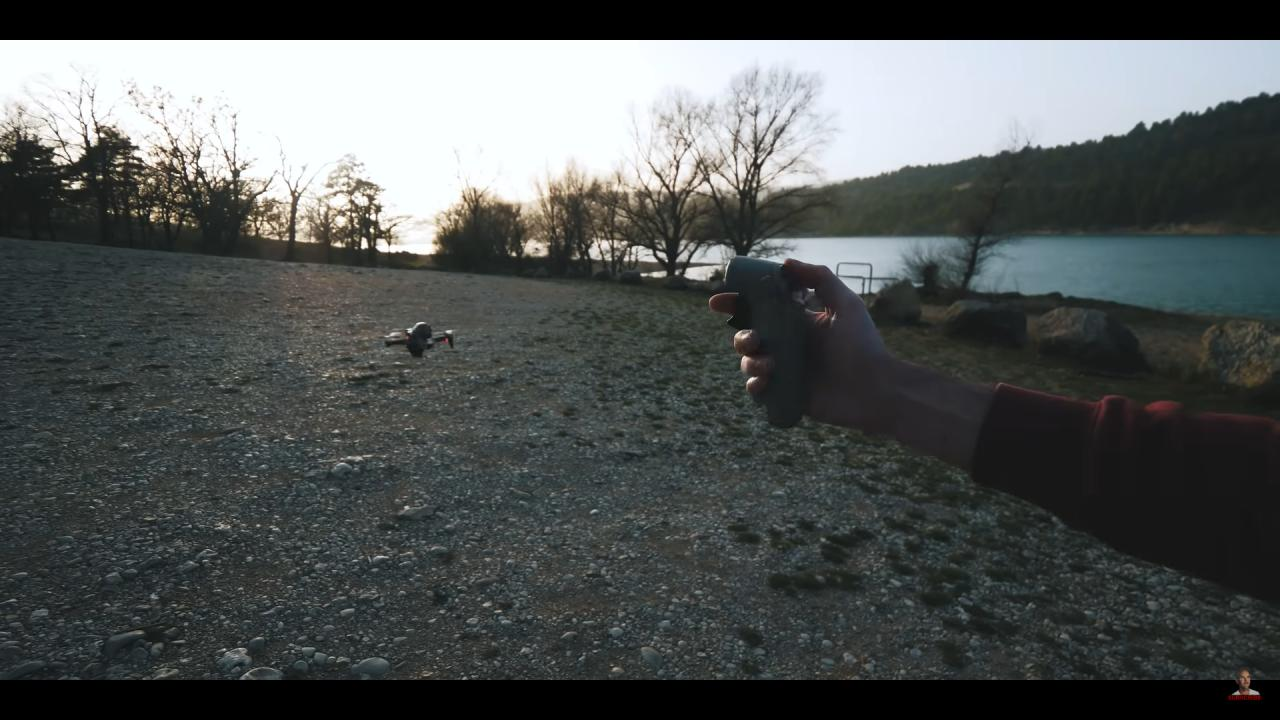Drone: (371, 310, 467, 366)
